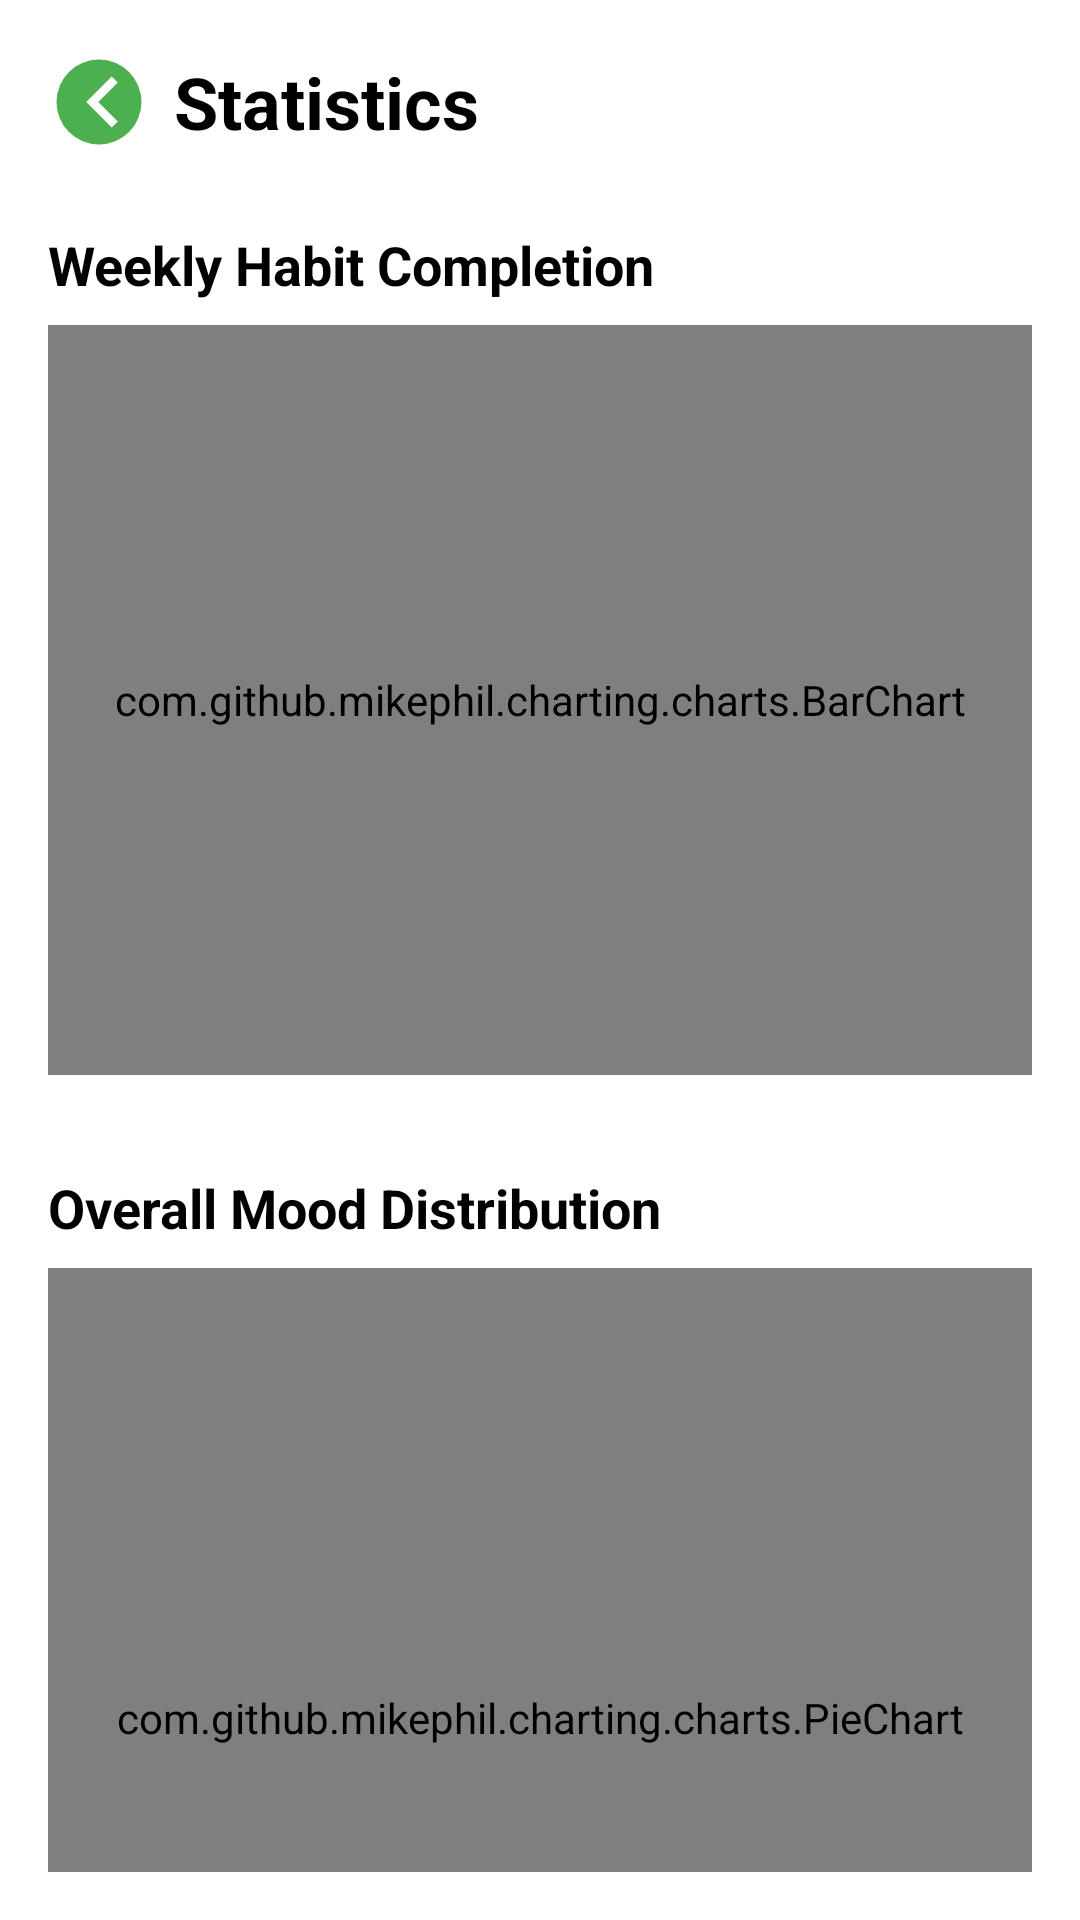

Named icons in this screenshot (1080x1920) and their centers, [x,y]:
Back: [99,102]
